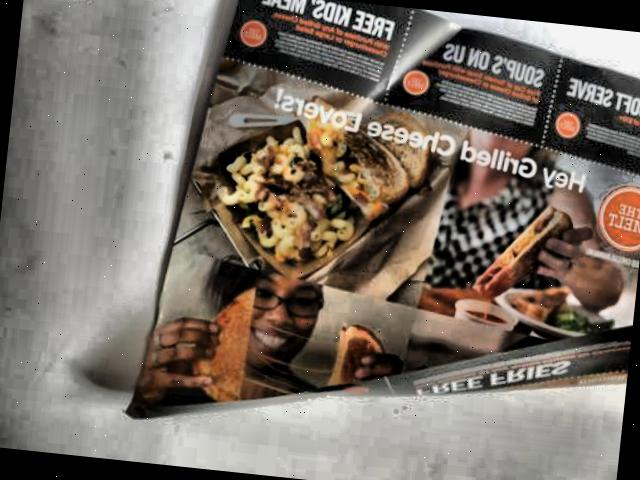Paper: (123, 0, 640, 474)
